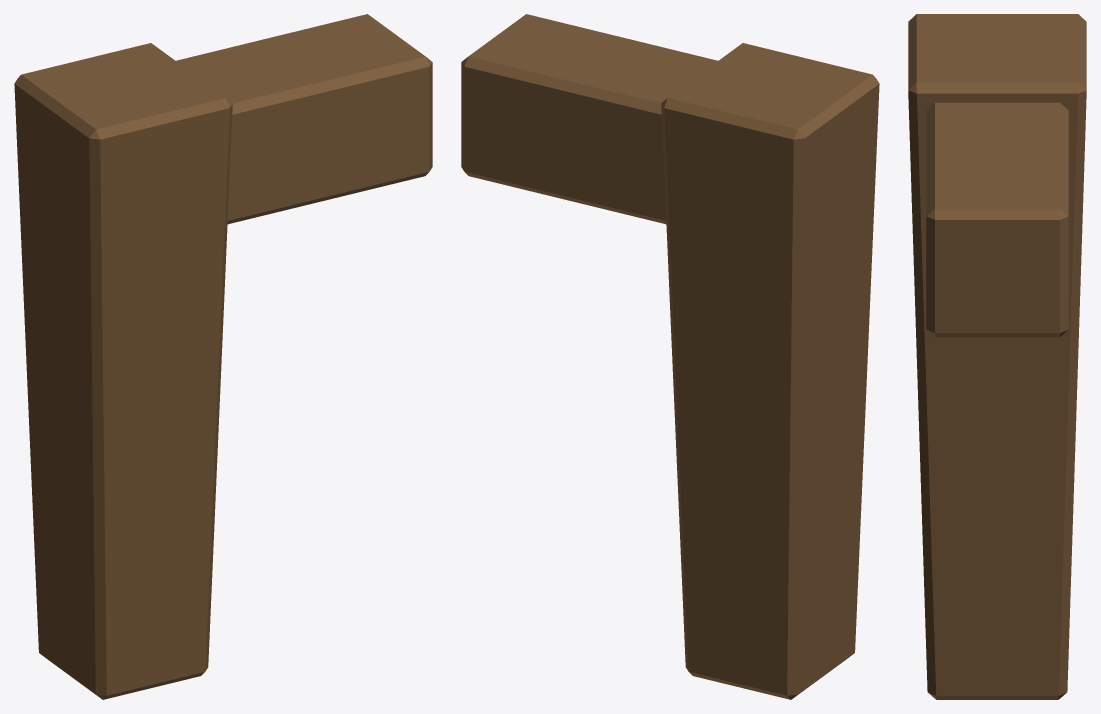
File: Lantern_01.fbx
3 views of the same model, side by side, from view 1: azimuth 30°, elevation 25°; view 2: azimuth 150°, elevation 25°; view 3: azimuth 270°, elevation 25° (orthographic). The views are drawn at different scales.
Visible parts, largest first — view 1: Lantern_01; view 2: Lantern_01; view 3: Lantern_01.
Part boxes in pixels (x1,y1,x2,y2): Lantern_01: [14, 14, 432, 699]; Lantern_01: [461, 14, 879, 699]; Lantern_01: [908, 14, 1086, 699].
Bounding box in the file's own units: 1.01 × 1.6 × 0.4125.
